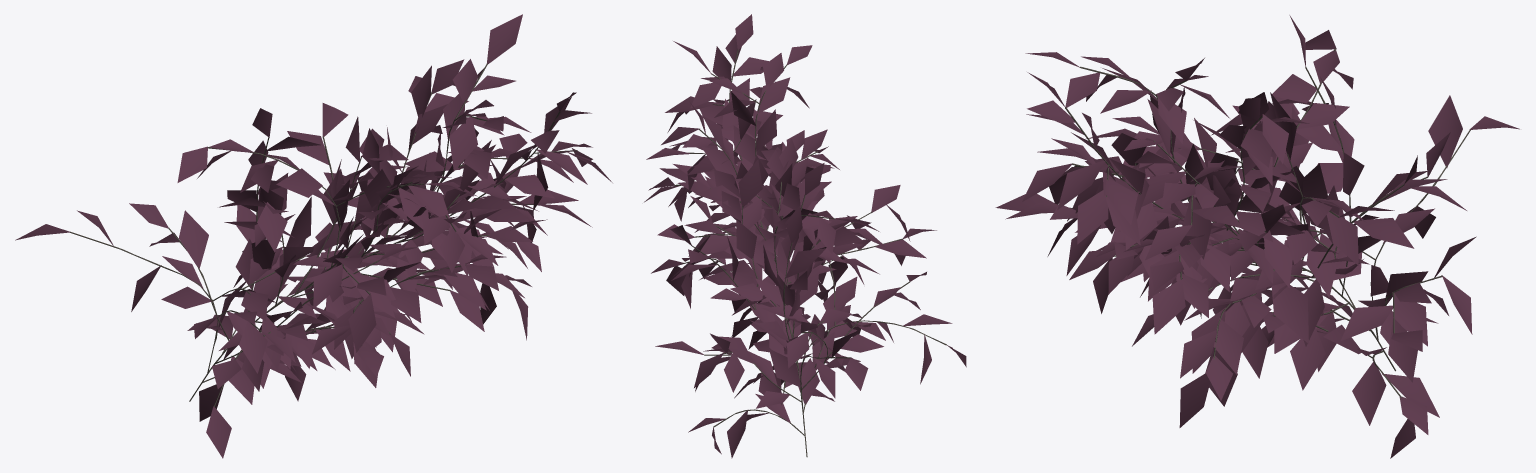
The model's file is Tree 4.glb.
3 views of the same model, side by side, from view 1: azimuth 30°, elevation 25°; view 2: azimuth 150°, elevation 25°; view 3: azimuth 270°, elevation 25° (orthographic). The views are drawn at different scales.
Visible parts, largest first — view 1: Tree_Prunus-cerasifera_A_summer.003; view 2: Tree_Prunus-cerasifera_A_summer.003; view 3: Tree_Prunus-cerasifera_A_summer.003.
Boxes of the visible parts, box(x1,y1,x2,y2) form: Tree_Prunus-cerasifera_A_summer.003: box(15, 14, 612, 458); Tree_Prunus-cerasifera_A_summer.003: box(644, 14, 966, 458); Tree_Prunus-cerasifera_A_summer.003: box(995, 15, 1519, 458).
Bounding box in the file's own units: 1.5 × 1.41 × 1.41.
